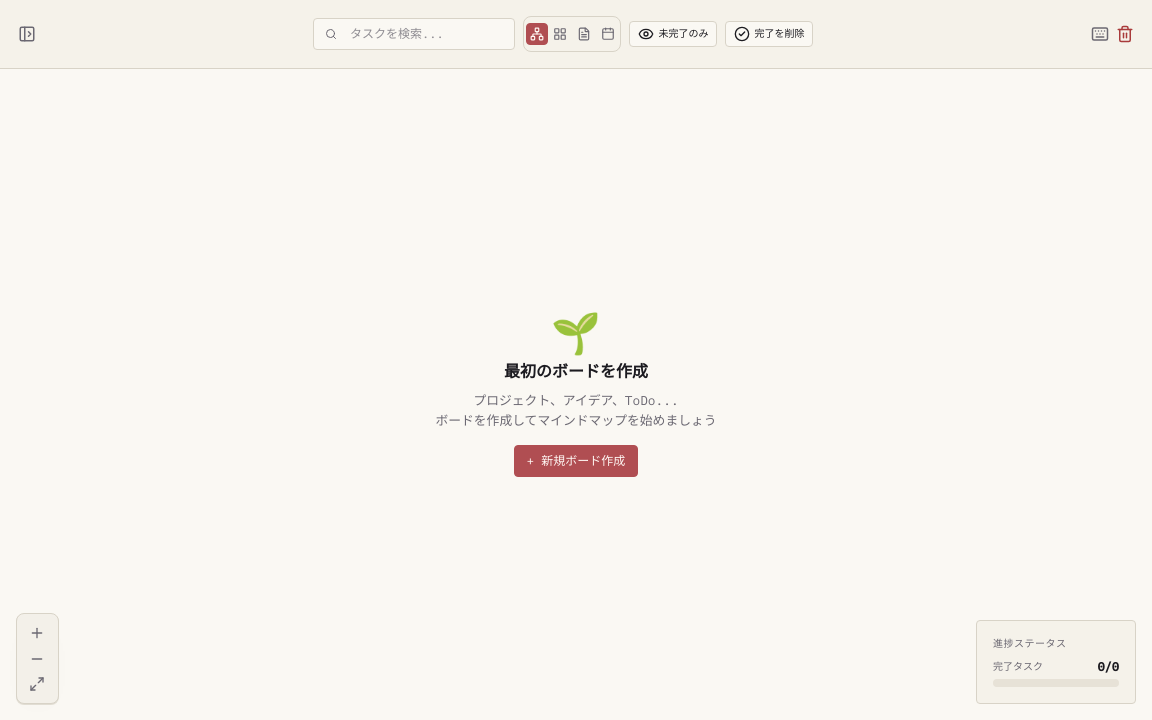
Test case: modal-based edit end-to-end › entering text in inline input creates a node
Click the button "+ 新規ボード作成" at (576, 461), box [514, 445, 638, 477]
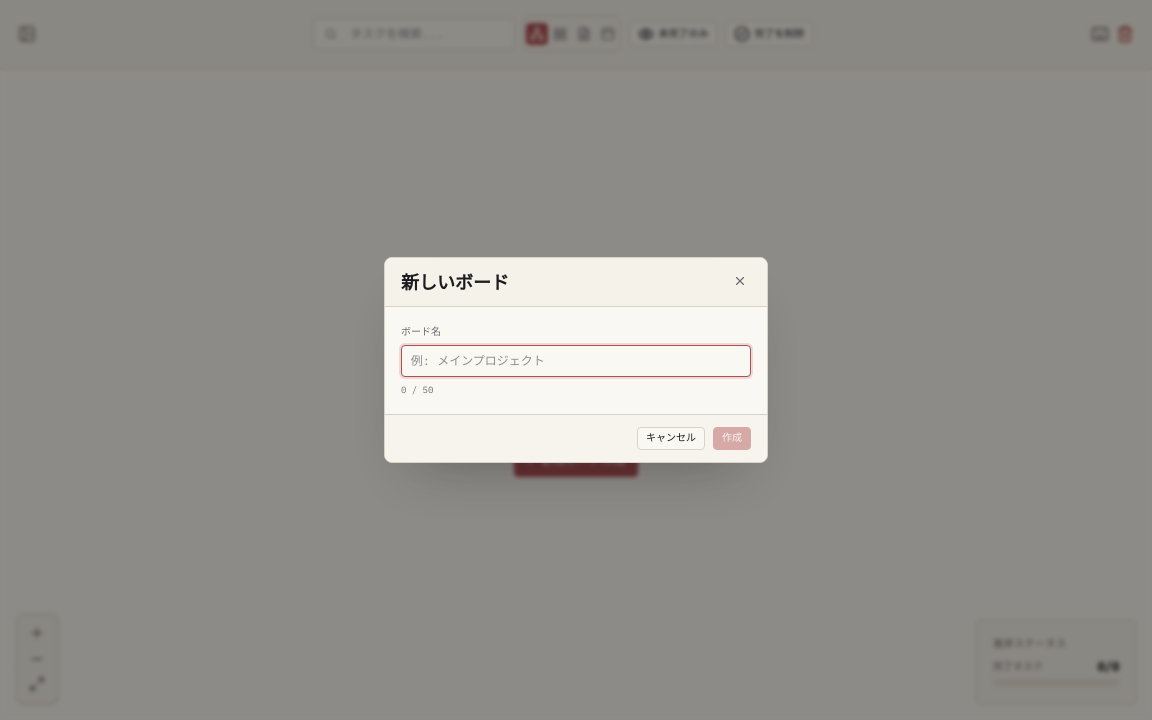
Type "Test" into the field with placeholder "例: メインプロジェクト" at (576, 361), box [401, 345, 751, 377]
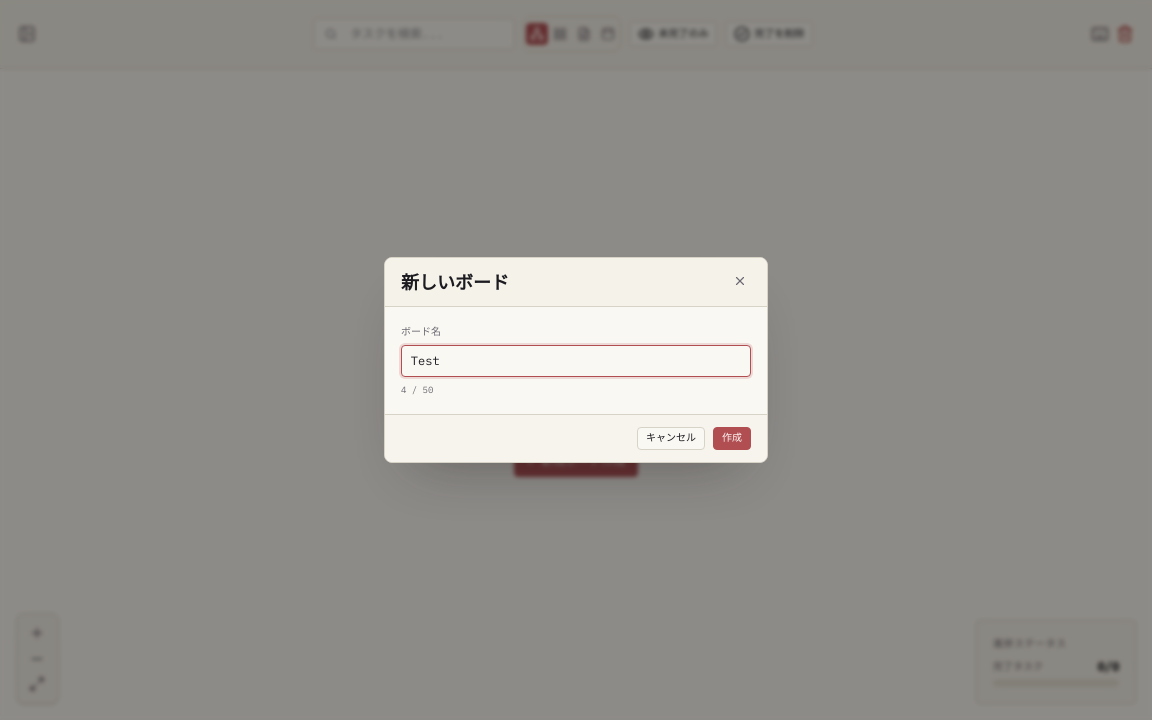
Click the button "作成" at (732, 438), box [713, 426, 751, 450]
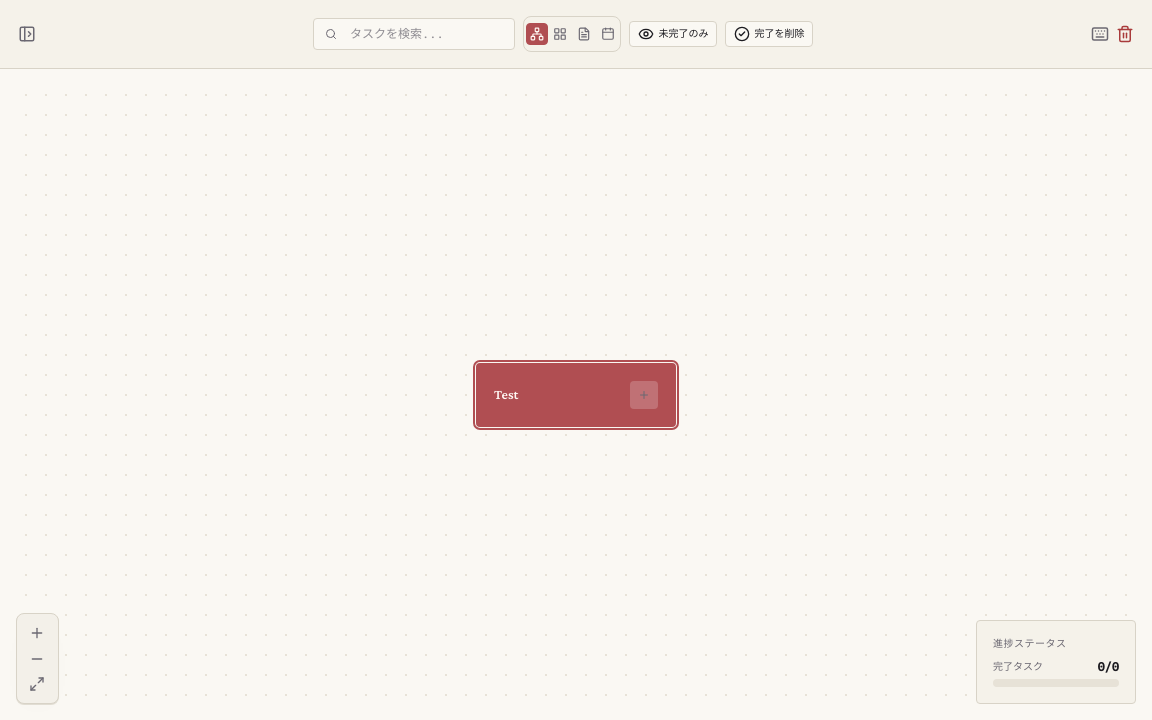
Click the button with test id "add-child-root" at (644, 394), box [630, 380, 658, 408]
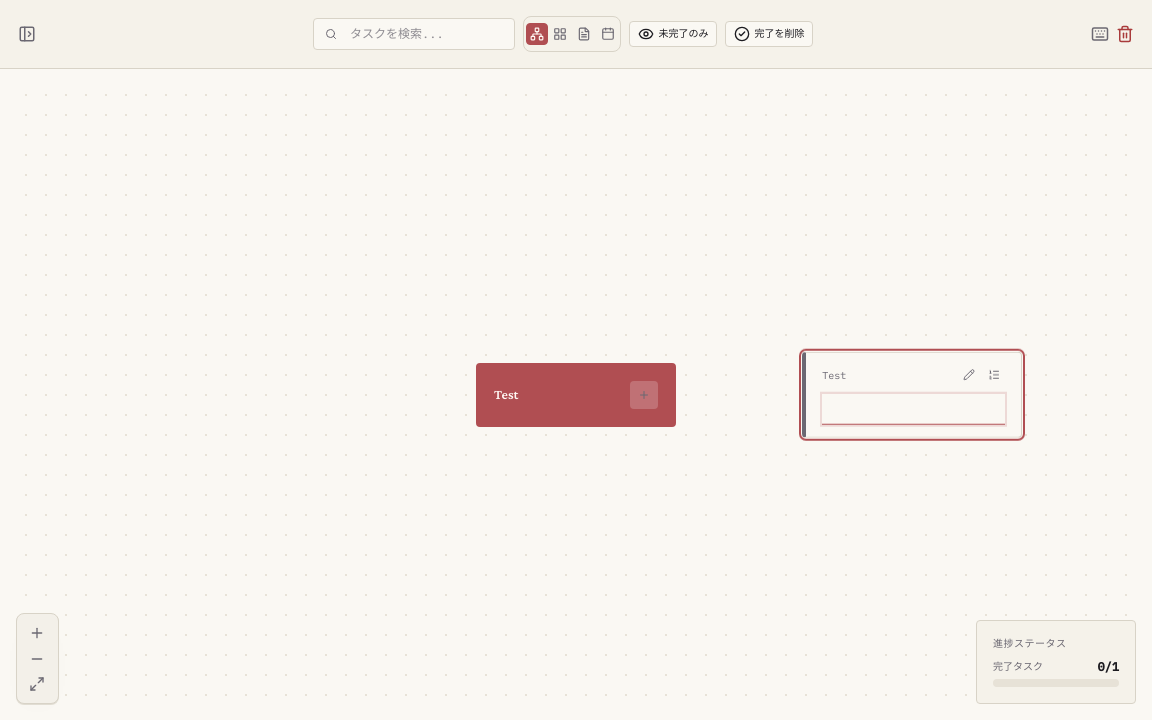
Type "my task" into the field with test id "inline-edit-input" at (932, 409), box [840, 394, 1023, 425]
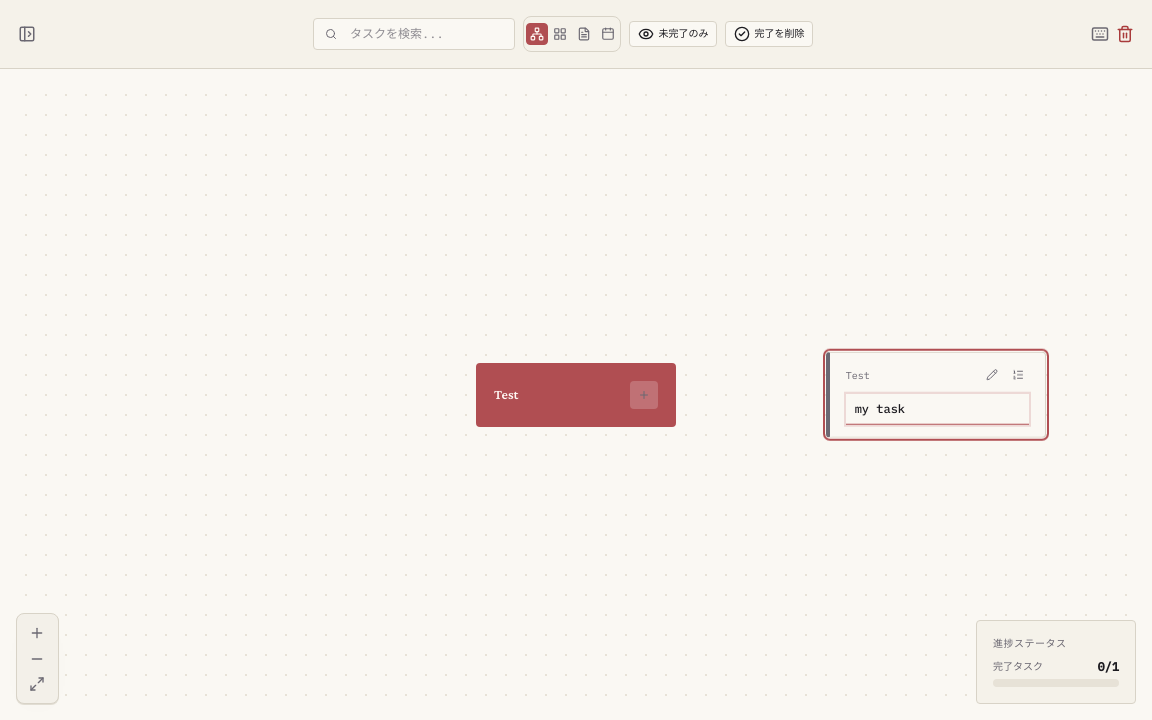
Press Enter in the field with test id "inline-edit-input", box [846, 394, 1029, 425]
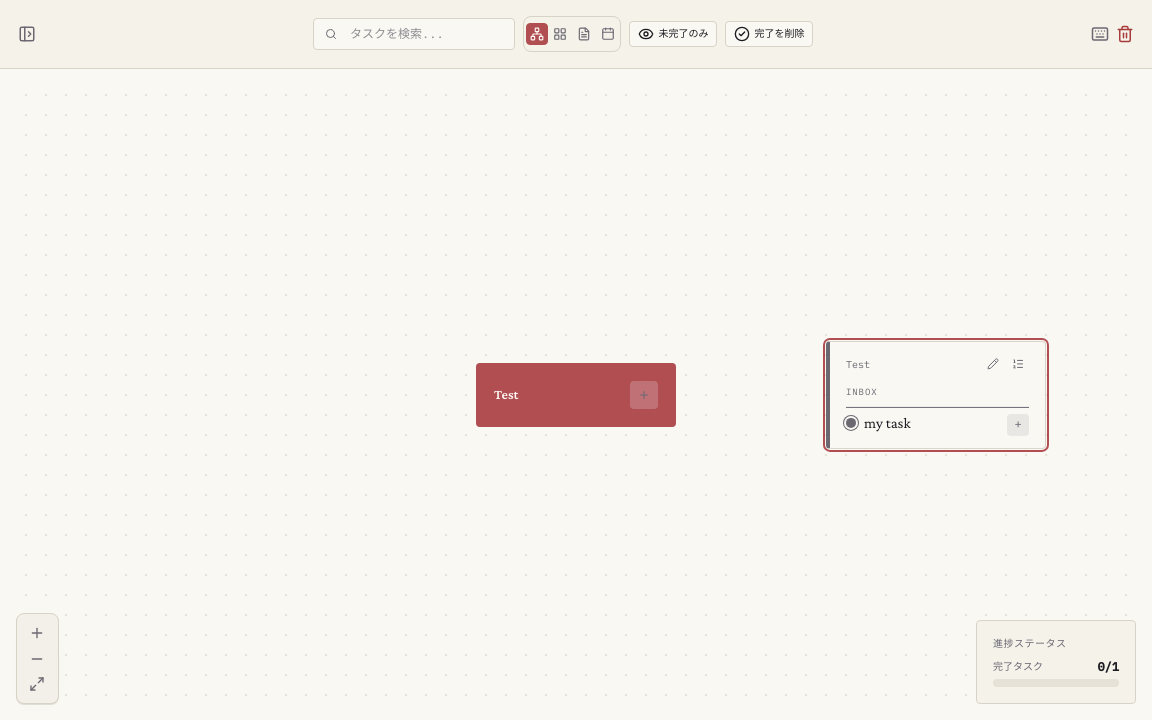
Now the field with test id "inline-edit-input" is gone
Now the text "my task" is shown, box [864, 415, 911, 431]
